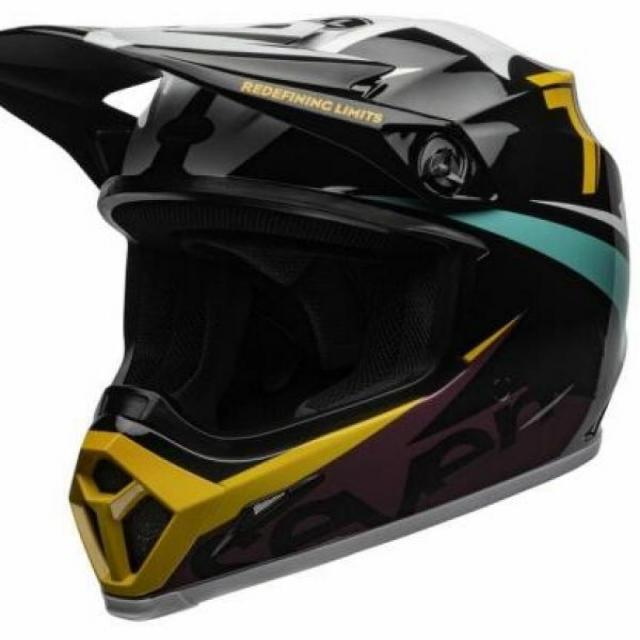Helmet: (4, 17, 602, 593)
